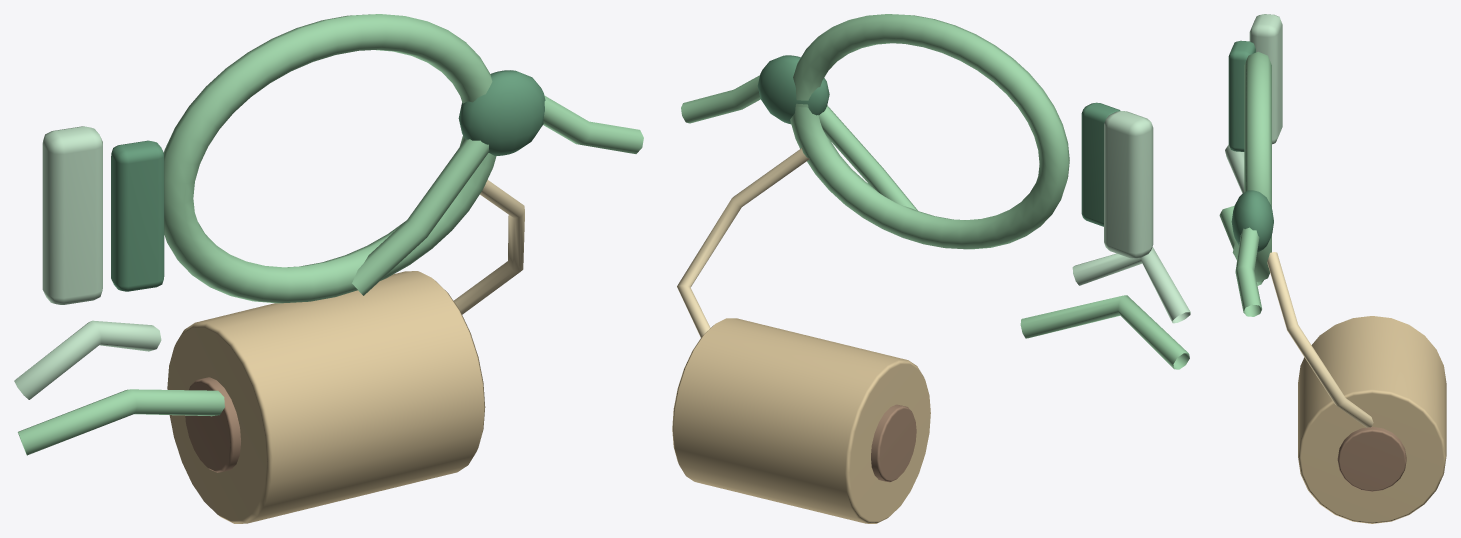
The model's file is PlantTieLoop.glb.
3 renders of one model, left to right at view 1: azimuth 30°, elevation 25°; view 2: azimuth 150°, elevation 25°; view 3: azimuth 270°, elevation 25°, orthographic. The views are drawn at different scales.
Visible parts, largest first — view 1: PlantTieLoop_Twine_Spool, PlantTieLoop_MainLoop, PlantTieLoop_Clip_Back, PlantTieLoop_Clip_Front, PlantTieLoop_Band_Long, PlantTieLoop_Knot, PlantTieLoop_Tail_Left, PlantTieLoop_Band_Short, PlantTieLoop_Twine_Core, PlantTieLoop_Twine_End, PlantTieLoop_Tail_Right; view 2: PlantTieLoop_Twine_Spool, PlantTieLoop_MainLoop, PlantTieLoop_Clip_Back, PlantTieLoop_Band_Long, PlantTieLoop_Twine_End, PlantTieLoop_Clip_Front, PlantTieLoop_Twine_Core, PlantTieLoop_Band_Short, PlantTieLoop_Knot, PlantTieLoop_Tail_Left, PlantTieLoop_Tail_Right; view 3: PlantTieLoop_Twine_Spool, PlantTieLoop_MainLoop, PlantTieLoop_Twine_Core, PlantTieLoop_Twine_End, PlantTieLoop_Clip_Back, PlantTieLoop_Clip_Front, PlantTieLoop_Knot, PlantTieLoop_Tail_Right, PlantTieLoop_Band_Short, PlantTieLoop_Band_Long.
Boxes of the visible parts, x1,y1,x2,y2 form: PlantTieLoop_Twine_Spool: (167,271,485,523); PlantTieLoop_MainLoop: (164,14,496,303); PlantTieLoop_Clip_Back: (42,126,102,304); PlantTieLoop_Clip_Front: (111,140,164,291); PlantTieLoop_Band_Long: (18,389,224,455); PlantTieLoop_Knot: (458,70,545,155); PlantTieLoop_Tail_Left: (352,139,489,295); PlantTieLoop_Band_Short: (14,320,161,399); PlantTieLoop_Twine_Core: (185,377,240,472); PlantTieLoop_Twine_End: (453,180,524,314); PlantTieLoop_Tail_Right: (543,95,643,153); PlantTieLoop_Twine_Spool: (672,318,930,523); PlantTieLoop_MainLoop: (790,14,1069,249); PlantTieLoop_Clip_Back: (1104,111,1153,258); PlantTieLoop_Band_Long: (1020,295,1189,369); PlantTieLoop_Twine_End: (677,147,809,337); PlantTieLoop_Clip_Front: (1081,102,1120,226); PlantTieLoop_Twine_Core: (871,404,916,482); PlantTieLoop_Band_Short: (1072,247,1190,323); PlantTieLoop_Knot: (757,55,829,124); PlantTieLoop_Tail_Left: (819,105,917,210); PlantTieLoop_Tail_Right: (681,75,760,123); PlantTieLoop_Twine_Spool: (1298,316,1446,523); PlantTieLoop_MainLoop: (1244,51,1271,282); PlantTieLoop_Twine_Core: (1337,426,1406,491); PlantTieLoop_Twine_End: (1267,252,1373,427); PlantTieLoop_Clip_Back: (1249,14,1282,144); PlantTieLoop_Clip_Front: (1228,40,1255,151); PlantTieLoop_Knot: (1231,190,1273,252); PlantTieLoop_Tail_Right: (1235,227,1261,316); PlantTieLoop_Band_Short: (1225,144,1244,193); PlantTieLoop_Band_Long: (1219,205,1263,285).
Size of the model in its own units: 0.97 by 0.816 by 0.428.
